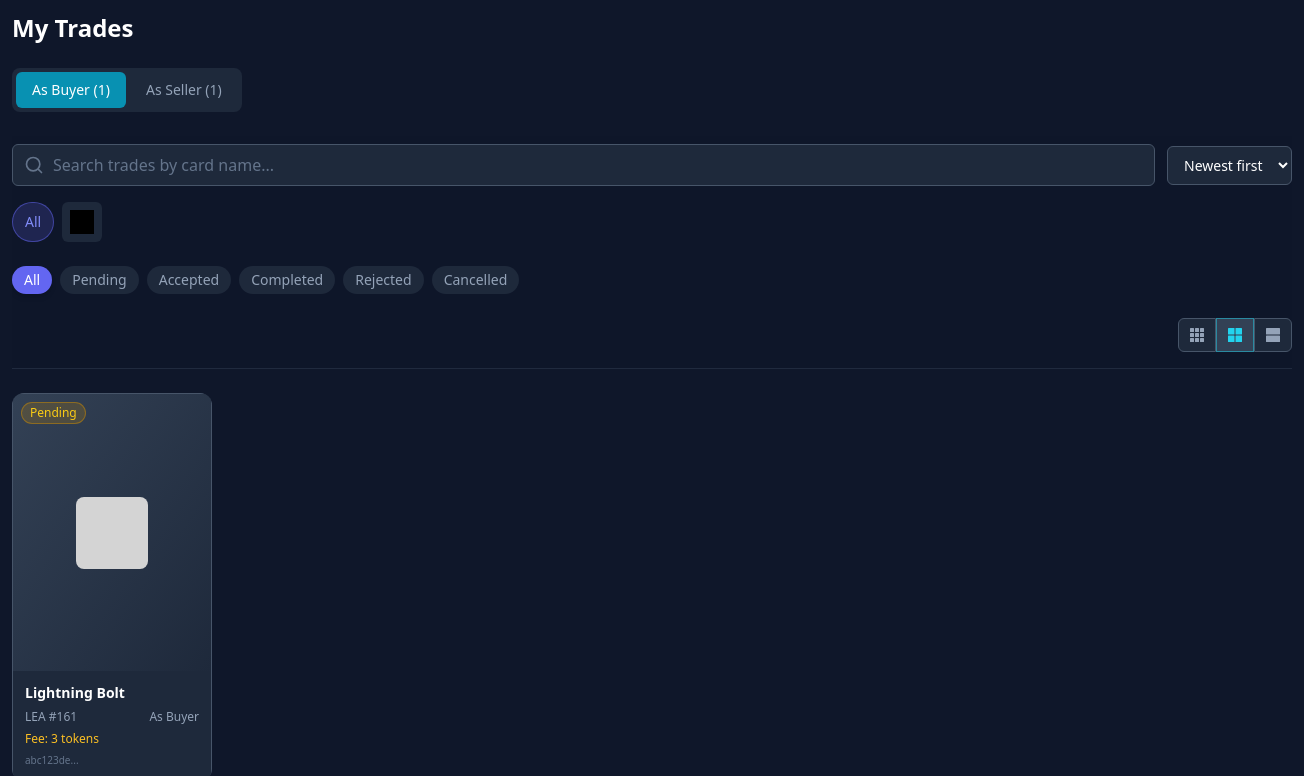
Test: MyTrades › switches to seller tab
The width and height of the screenshot is (1304, 776).
Step 1. Click the button with test id "tab-seller" → (184, 90), box [130, 72, 238, 108]
(page scrolled)
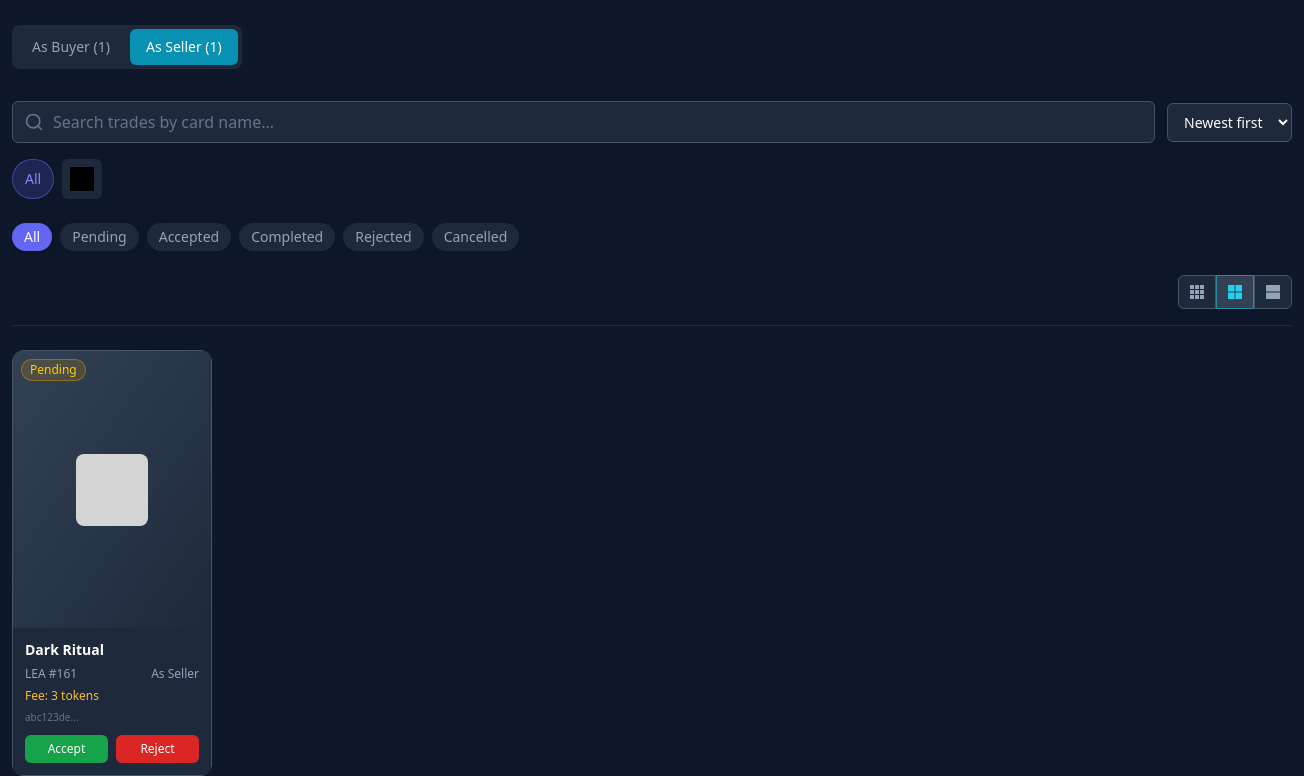
Now the element with test id "trade-card-2" is shown, box [12, 350, 212, 775]
